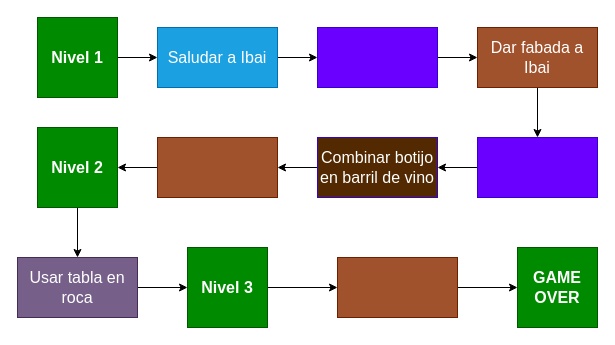
The diagram is 615 pixels wide and 345 high, and some of its shapes have lost their labels. The box of each missing label's shape, as (x1, y1, x2, y2) in pixels:
Coger botijo: (476, 136, 598, 198)
Coger Fabada: (316, 26, 438, 88)
Dar botijo de vino a Ibai: (156, 136, 278, 198)
Sobornar Guardia: (336, 256, 458, 318)
